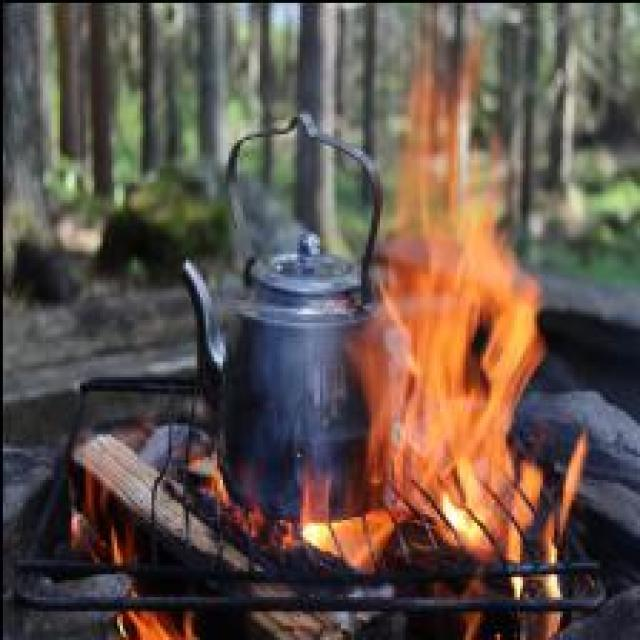Fire: (346, 199, 586, 562)
